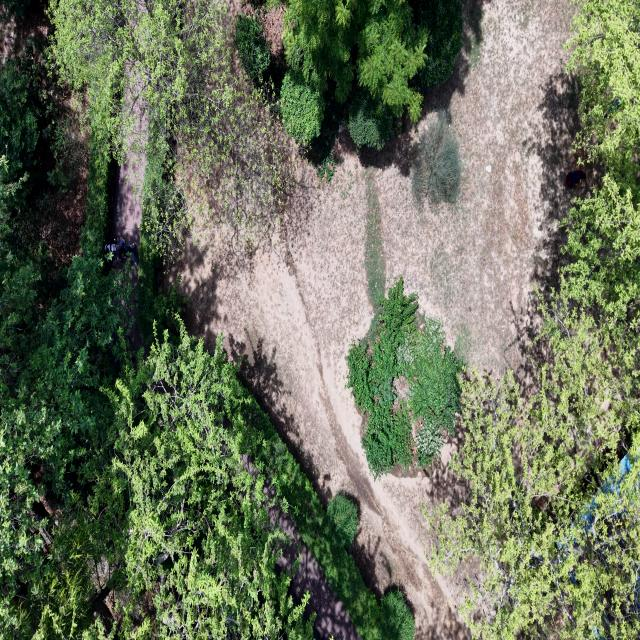DRY_AREA: (172, 0, 577, 639), (179, 2, 575, 635), (174, 226, 467, 639), (380, 1, 577, 373), (268, 502, 359, 639), (269, 506, 359, 639), (269, 507, 359, 639), (31, 82, 89, 265), (279, 542, 359, 639), (111, 60, 147, 249), (110, 63, 147, 245), (111, 65, 147, 249), (109, 84, 146, 250), (111, 87, 146, 245), (0, 0, 51, 58), (111, 157, 142, 245), (111, 160, 141, 244), (256, 2, 285, 55)
PATHWAYS: (268, 505, 359, 639), (269, 506, 359, 639)
VEGETATION_TREE: (0, 0, 460, 639), (0, 62, 379, 639), (0, 147, 311, 639), (0, 255, 381, 639), (429, 0, 639, 639), (0, 254, 311, 639), (429, 175, 639, 639), (48, 0, 436, 251), (113, 322, 380, 639), (0, 37, 120, 636), (99, 322, 312, 639), (49, 0, 293, 252), (0, 252, 120, 637), (229, 377, 380, 639), (279, 0, 460, 177), (172, 3, 293, 242), (0, 5, 98, 288), (346, 278, 460, 477), (47, 0, 186, 156), (0, 48, 88, 265), (283, 0, 426, 119), (47, 0, 140, 152), (566, 0, 639, 185), (279, 0, 353, 181), (346, 296, 415, 478), (0, 59, 62, 251), (356, 0, 427, 120), (404, 320, 460, 465), (283, 0, 355, 101), (0, 59, 39, 236), (411, 111, 460, 205), (137, 246, 185, 341), (414, 0, 462, 86), (280, 69, 324, 144), (302, 100, 342, 182), (348, 87, 394, 149), (234, 15, 270, 83), (380, 588, 414, 639), (327, 493, 358, 544), (305, 134, 337, 182), (3, 0, 28, 16)
